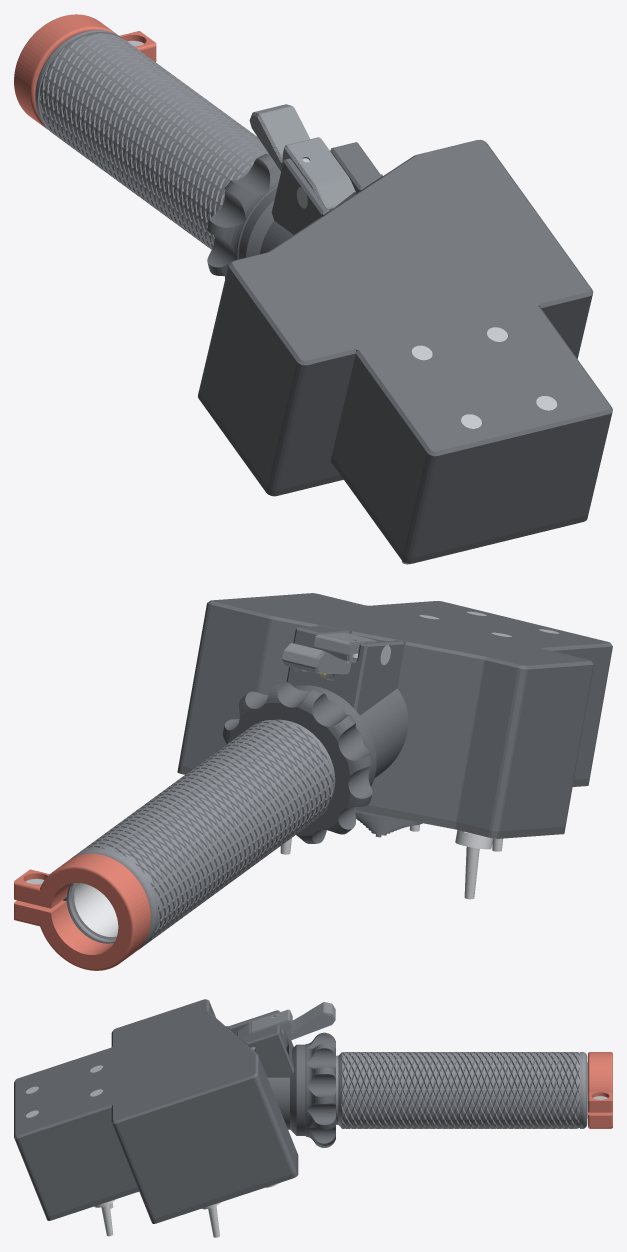
Rendered from HueyHeadR4_Assembly.glb.
The picture shows the model from 3 angles, top to bottom: view 1: azimuth 30°, elevation 25°; view 2: azimuth 150°, elevation 25°; view 3: azimuth 270°, elevation 25°; orthographic projection. The views are drawn at different scales.
Visible parts, largest first — view 1: Body, Throttle grip, Trigger, Friction collar, Upper panel, Lower panel, HeliSR screws M3 x 12; view 2: Body, Throttle grip, Friction collar, Trigger, Tube, Lower panel, Lower toggles and STOP REL, Search hat cap; view 3: Body, Throttle grip, Friction collar, Trigger, Lower panel, Upper panel, Upper toggles.
Boxes of the visible parts, bbox=[...] form: Body: bbox=[199, 139, 612, 557]; Throttle grip: bbox=[35, 30, 269, 249]; Trigger: bbox=[249, 104, 355, 210]; Friction collar: bbox=[14, 14, 156, 129]; Upper panel: bbox=[330, 456, 588, 563]; Lower panel: bbox=[198, 390, 343, 496]; HeliSR screws M3 x 12: bbox=[411, 327, 557, 428]; Body: bbox=[178, 593, 612, 843]; Throttle grip: bbox=[68, 719, 335, 950]; Friction collar: bbox=[14, 853, 150, 970]; Trigger: bbox=[282, 633, 378, 674]; Tube: bbox=[71, 883, 118, 939]; Lower panel: bbox=[177, 765, 565, 838]; Lower toggles and STOP REL: bbox=[280, 830, 493, 899]; Search hat cap: bbox=[355, 810, 422, 837]; Body: bbox=[14, 999, 335, 1219]; Throttle grip: bbox=[336, 1052, 587, 1128]; Friction collar: bbox=[588, 1052, 612, 1128]; Trigger: bbox=[237, 1002, 335, 1040]; Lower panel: bbox=[150, 1151, 298, 1223]; Upper panel: bbox=[45, 1187, 138, 1220]; Upper toggles: bbox=[94, 1199, 115, 1236].
Bounding box in the file's own units: 107 × 112 × 288.
